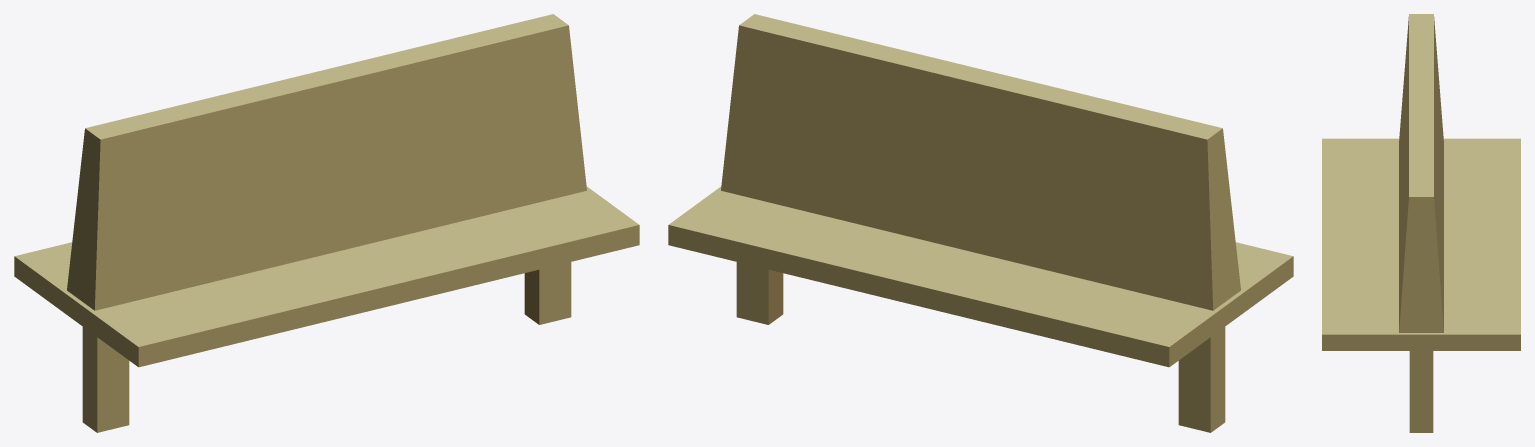
The model's file is bench_003.glb.
3 views of the same model, side by side, from view 1: azimuth 30°, elevation 25°; view 2: azimuth 150°, elevation 25°; view 3: azimuth 270°, elevation 25° (orthographic). The views are drawn at different scales.
Visible parts, largest first — view 1: bench_003; view 2: bench_003; view 3: bench_003.
Boxes of the visible parts, x1=… form: bench_003: x1=14, y1=14, x2=639, y2=432; bench_003: x1=668, y1=14, x2=1293, y2=432; bench_003: x1=1322, y1=14, x2=1520, y2=432.
Size of the model in its own units: 1.68 by 0.9373 by 0.72.
Materials: 1 (1 with a texture image).
